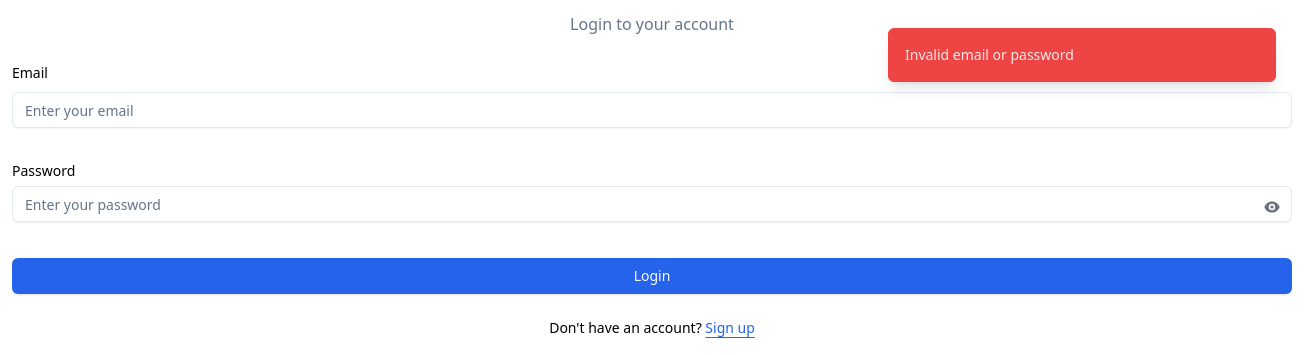
Test case: Presentation > Features > Auth > LoginForm › should handle account locked error
Type "test@example.com" into the field labelled "Email" at (652, 110), box [12,92,1292,128]
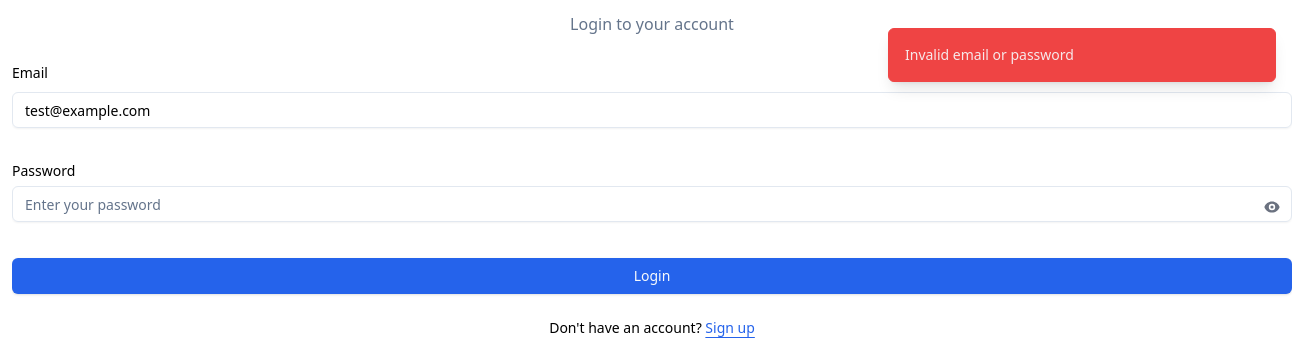
Type "password123" into the password field with test id "password-input" at (652, 204), box [12,186,1292,222]
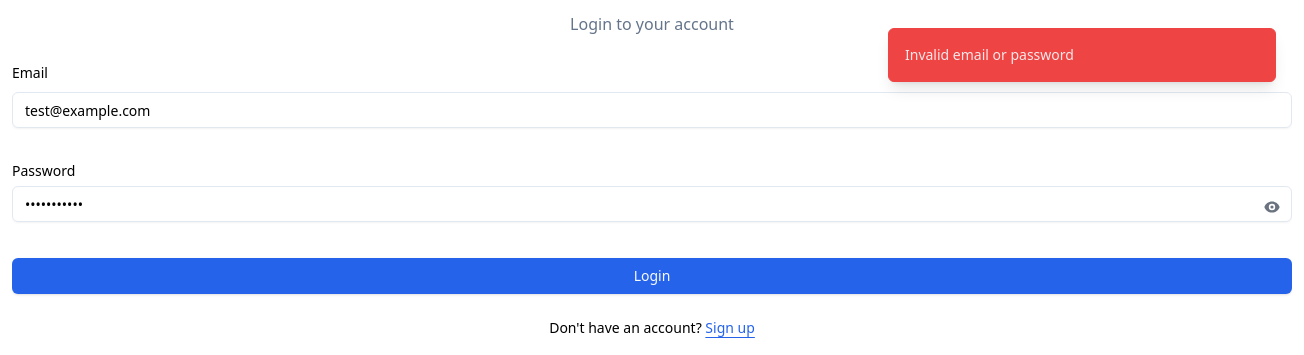
Click the button "Login" at (652, 276), box [12,258,1292,294]
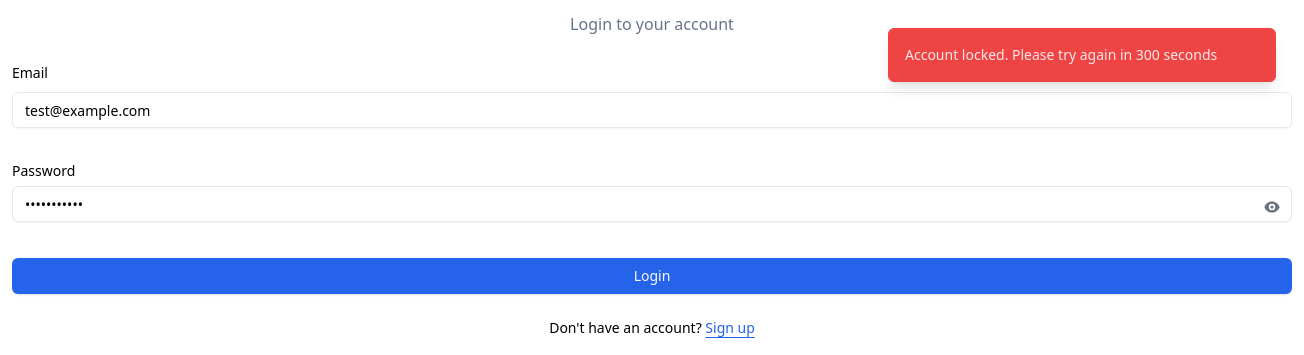
expect the text "Account locked. Please try again in 300 seconds" is shown: met, box [905,45,1217,65]
